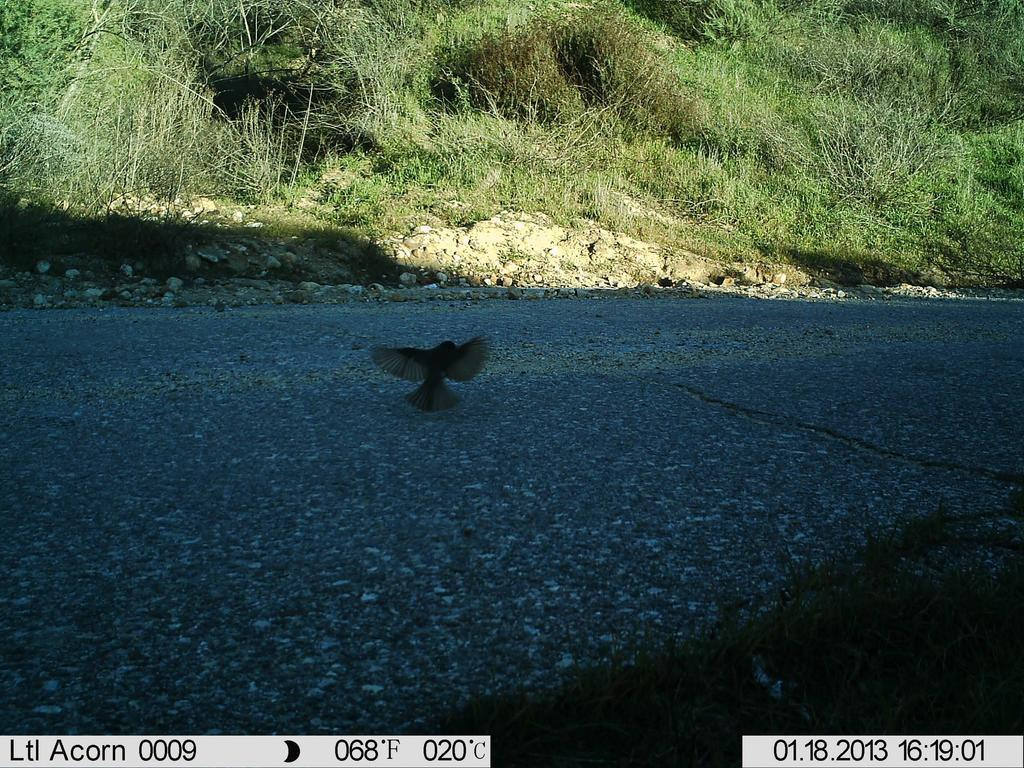bird: (365, 317, 525, 418)
